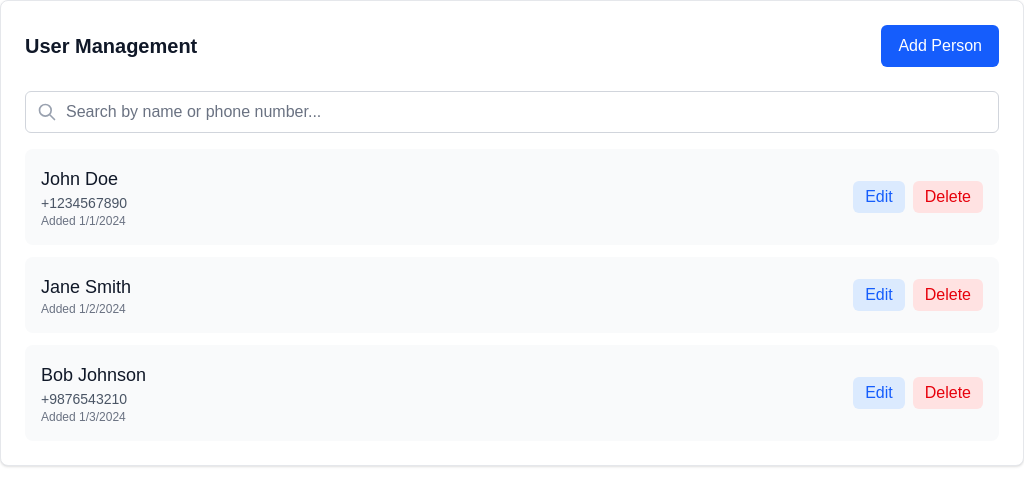
UserManagement › Search Functionality › shows no results message when search yields no matches
Type "nonexistent" into the field with placeholder "Search by name or phone number..." at (512, 112), box x1=25 y1=91 x2=999 y2=133
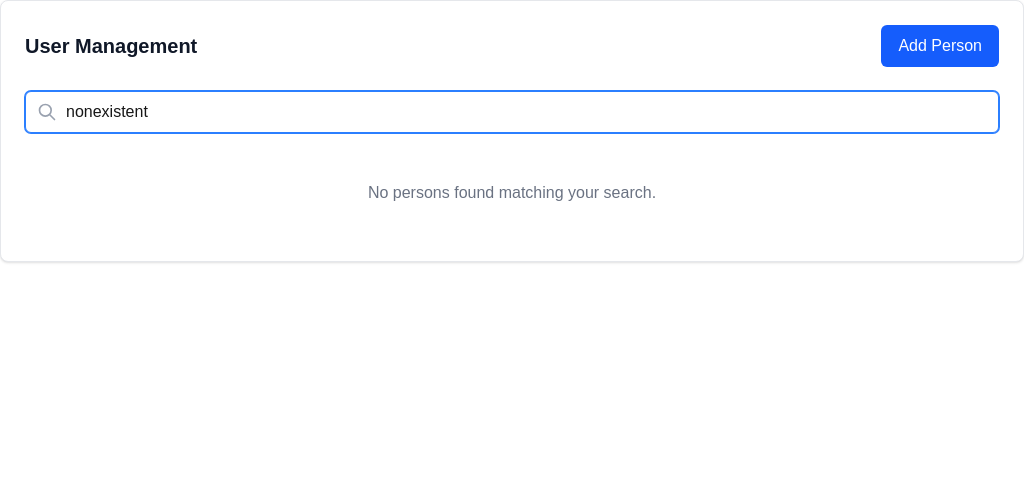
Expected: the text "No persons found matching your search." is shown, x1=368 y1=184 x2=656 y2=201
